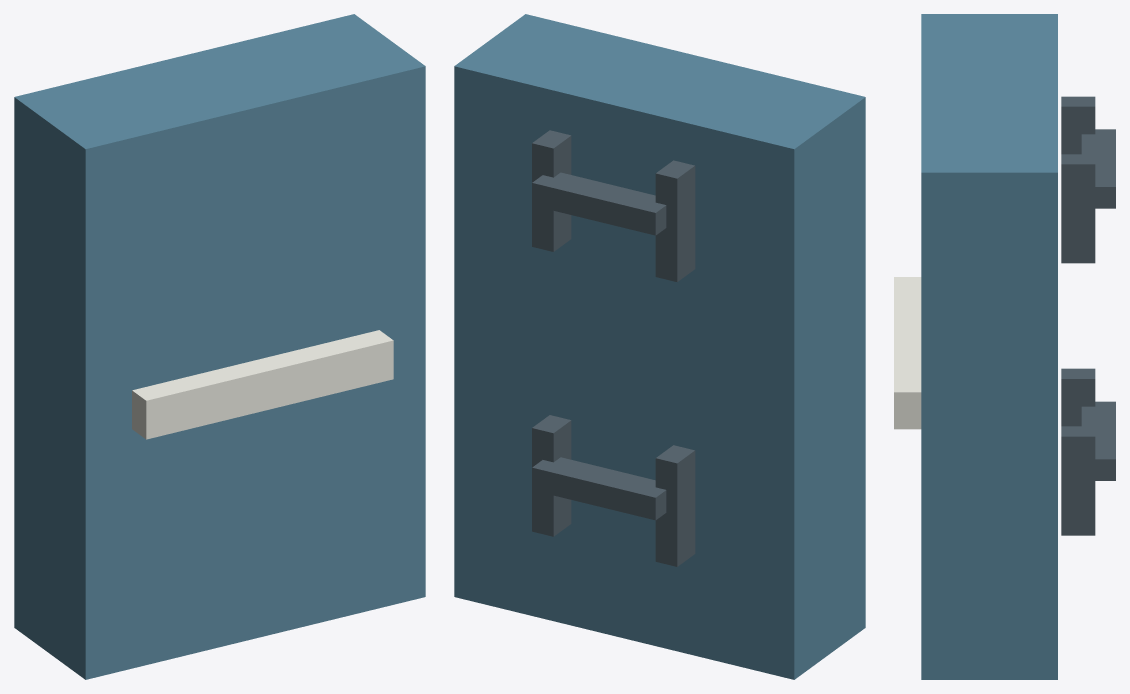
File: american-football-stadium-kit-blocking-shield-13c6d6d7__22380.glb
The picture shows the model from 3 angles, left to right: view 1: azimuth 30°, elevation 25°; view 2: azimuth 150°, elevation 25°; view 3: azimuth 270°, elevation 25°; orthographic projection. The views are drawn at different scales.
Parts seen in each view (by area): view 1: blocking-shield; view 2: blocking-shield; view 3: blocking-shield.
Part boxes in pixels (x1,y1,x2,y2): blocking-shield: (14, 14, 425, 679); blocking-shield: (454, 14, 865, 679); blocking-shield: (894, 14, 1115, 679).
Size of the model in its own units: 0.55 by 0.82 by 0.325.
